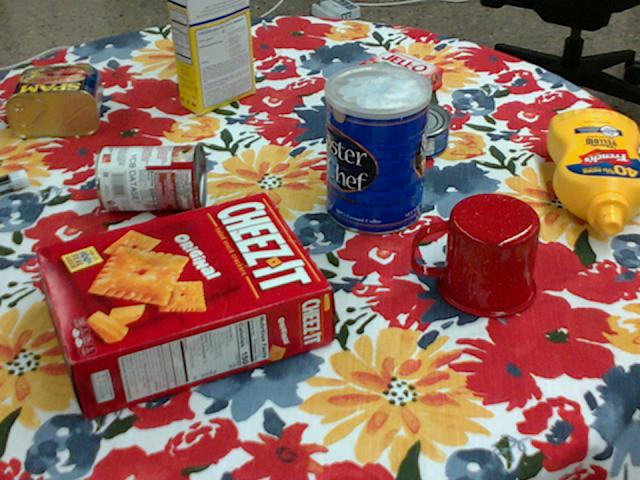cracker_box: (35, 194, 331, 420)
gelatin_box: (353, 50, 441, 106)
large_marker: (0, 169, 28, 193)
master_chef_can: (323, 64, 431, 236)
mug: (411, 193, 540, 319)
mustard_bottle: (545, 107, 639, 233)
potted_meat_can: (5, 64, 102, 137)
sugar_box: (168, 0, 255, 112)
tomato_soup_can: (94, 144, 203, 211)
tuna_fish_can: (376, 100, 450, 160)
